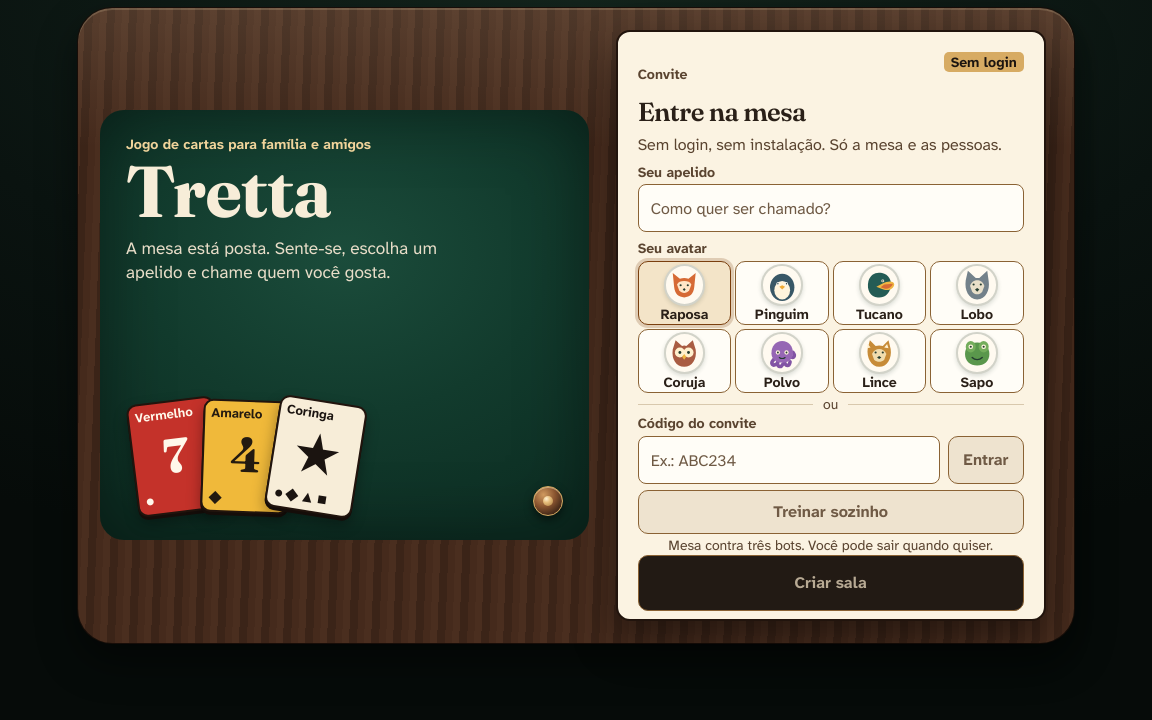
it: entrada pela home da mesa de treino › falha na criação mostra o banner e não navega
Type "Ana" into the field with test id "nickname-input" at (831, 208), box [638,184,1024,232]
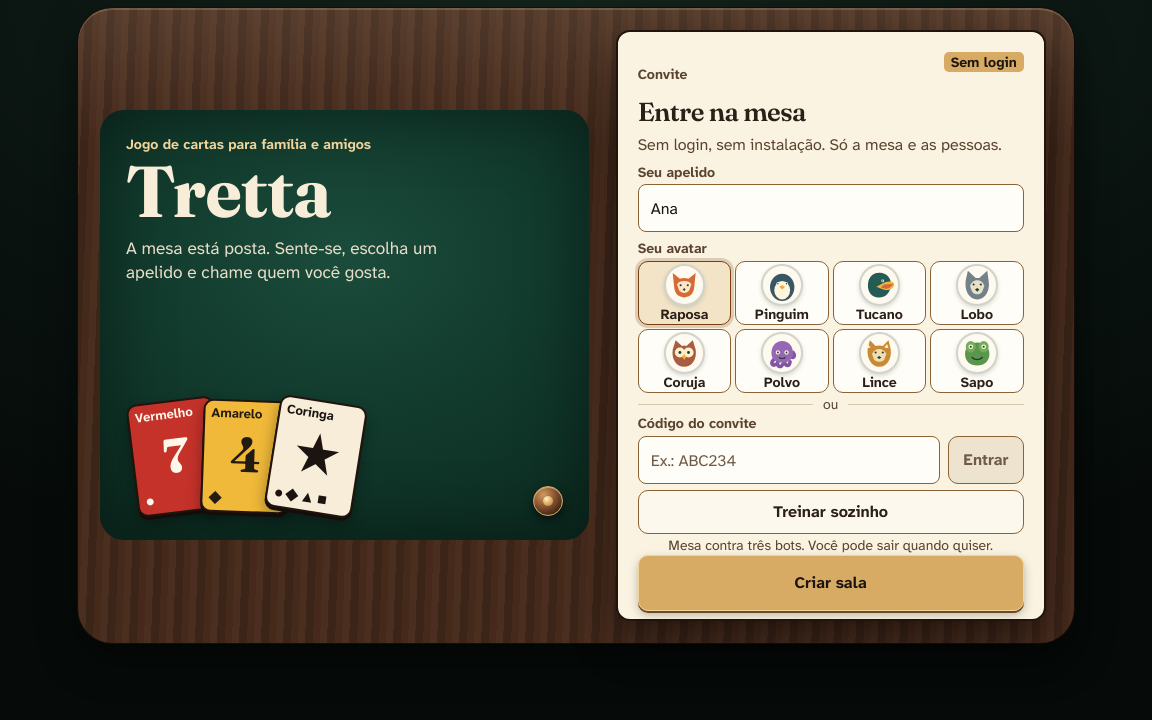
Click the button with test id "train-solo-button" at (831, 512), box [638,490,1024,534]
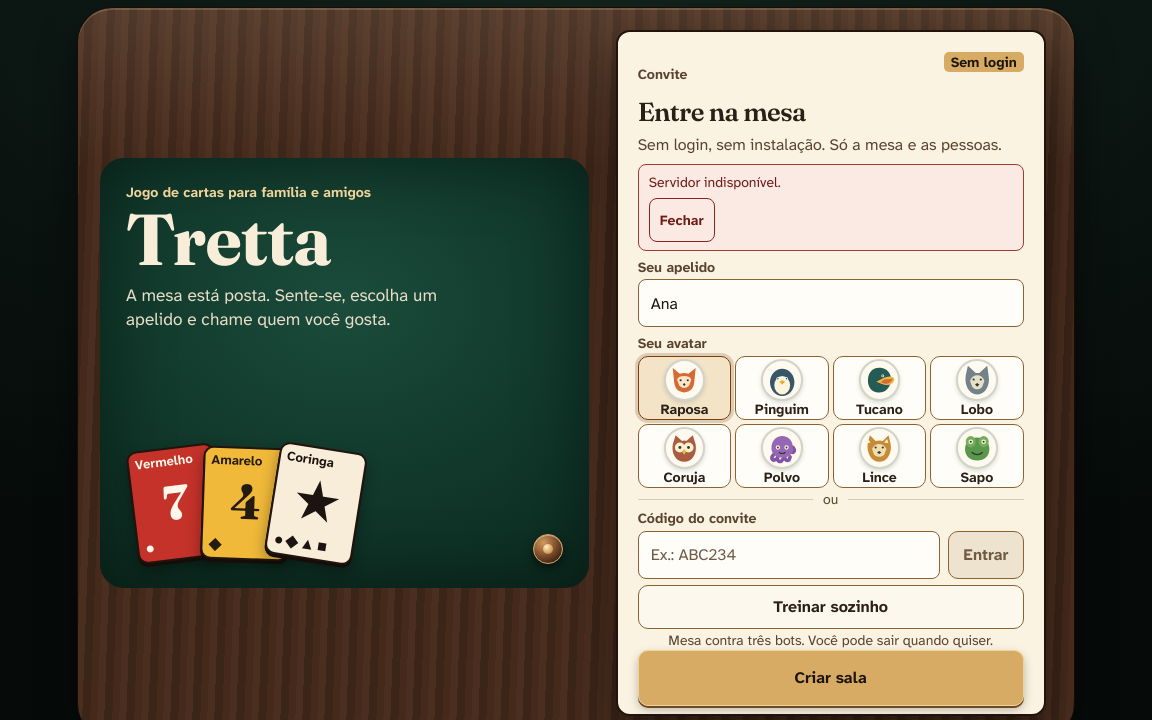
Expected: the message with test id "error-banner" shows "Servidor indisponível", [649,173,781,191]
